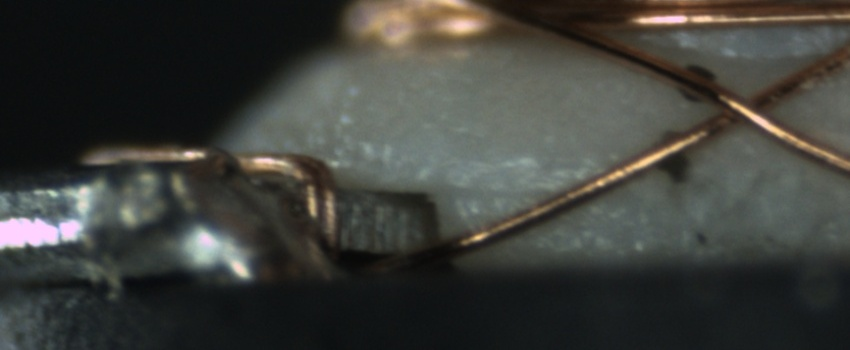CL: (687, 74, 797, 144)
DL: (441, 136, 636, 195)
TE: (68, 140, 348, 261)
